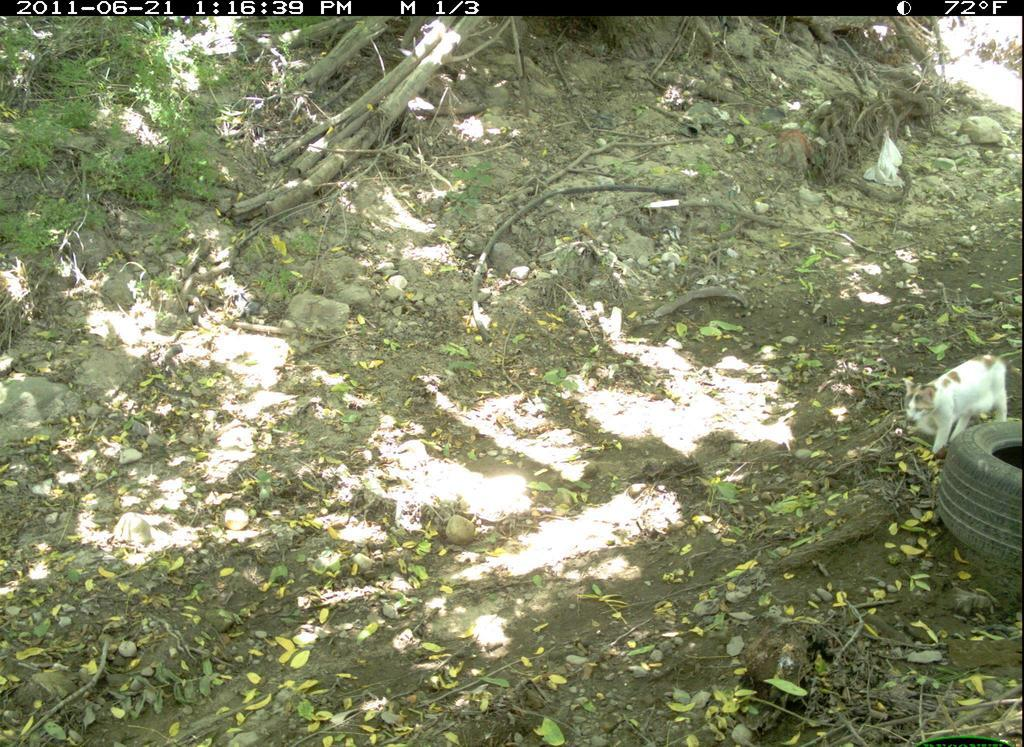cat: (894, 346, 1019, 470)
